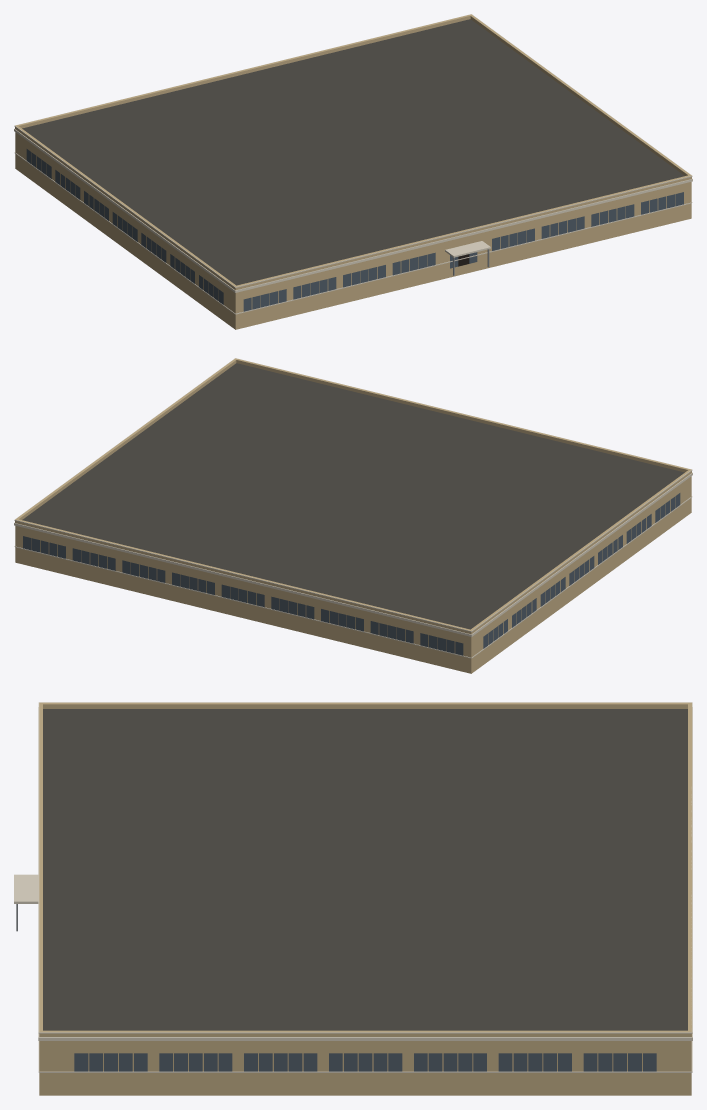
The model's file is mcdermott-elementary.glb.
3 renders of one model, top to bottom at view 1: azimuth 30°, elevation 25°; view 2: azimuth 150°, elevation 25°; view 3: azimuth 270°, elevation 25°, orthographic. The views are drawn at different scales.
Parts seen in each view (by area): view 1: mcdermott_elementary; view 2: mcdermott_elementary; view 3: mcdermott_elementary.
Boxes of the visible parts, x1,y1,x2,y2 form: mcdermott_elementary: (14, 14, 692, 329); mcdermott_elementary: (14, 358, 692, 673); mcdermott_elementary: (14, 702, 692, 1095).
Size of the model in its own units: 73.74 by 6.6 by 64.02.
